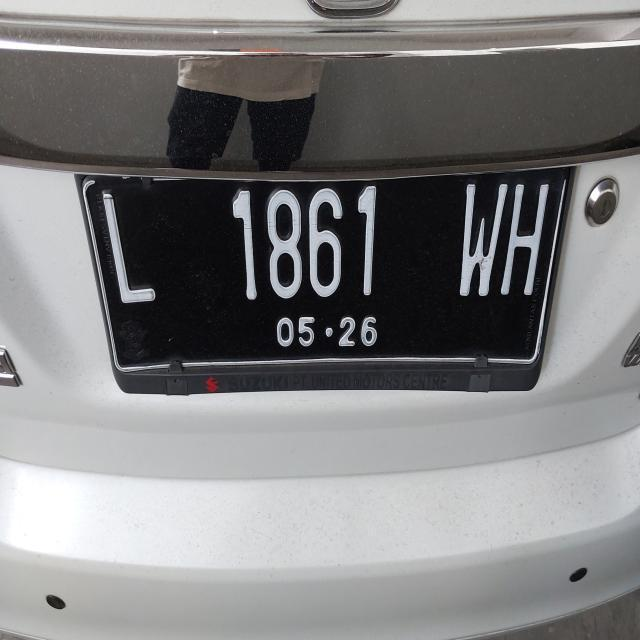1: (210, 170, 263, 318), (348, 148, 392, 309)
6: (304, 156, 346, 310)
8: (258, 162, 306, 307)
H: (498, 162, 552, 308)
L: (87, 175, 167, 328)
W: (450, 153, 512, 310)
